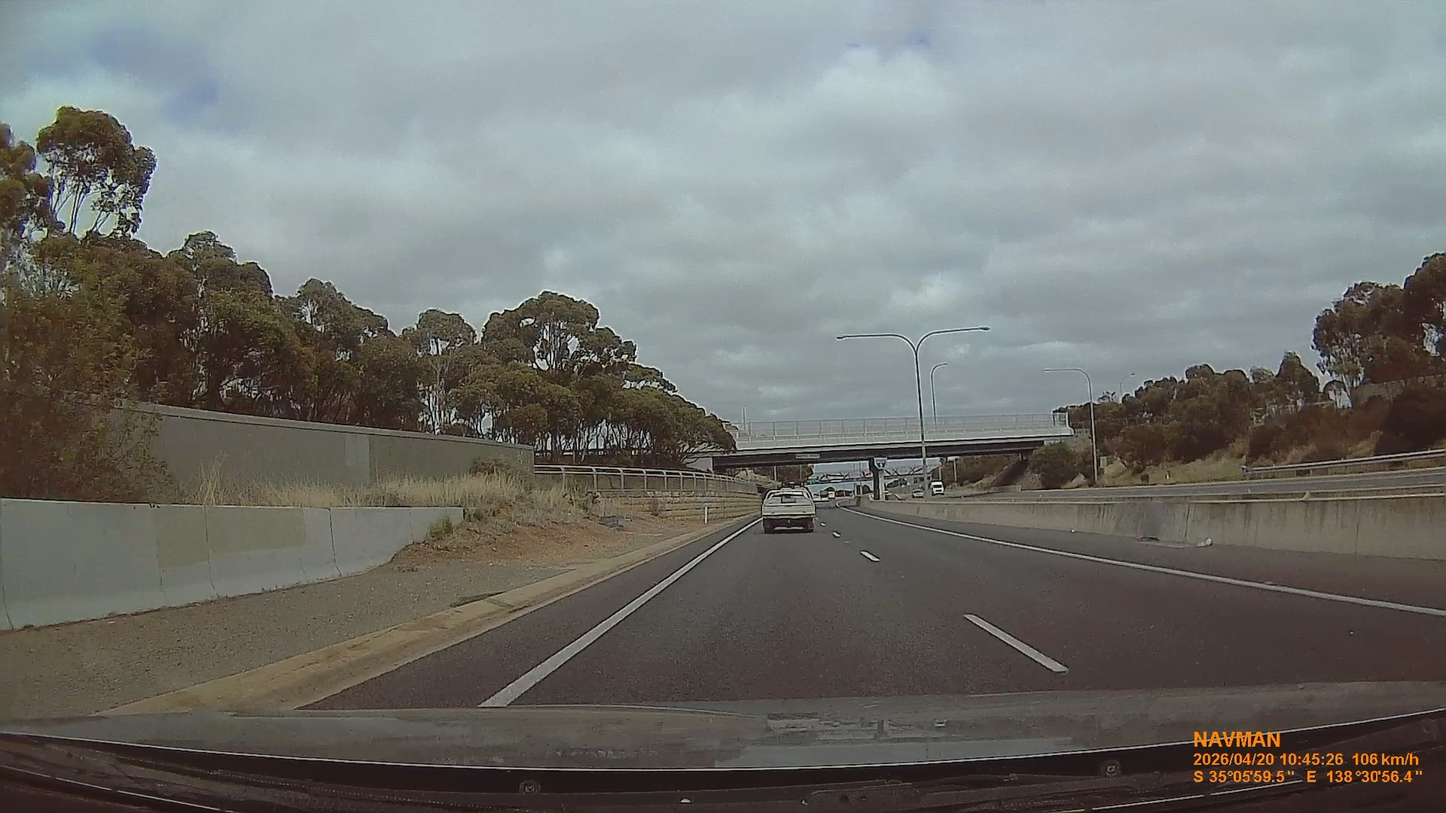road barriers: (2, 498, 453, 626), (864, 481, 1444, 559)
